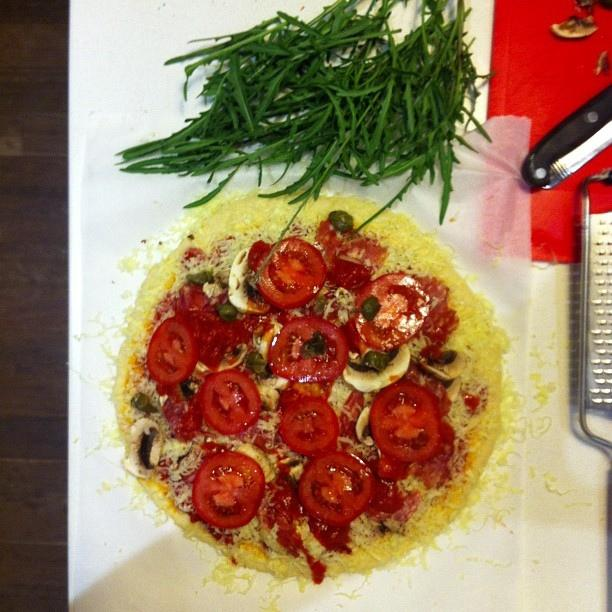mushroom: (342, 342, 412, 390), (228, 247, 270, 315), (122, 418, 162, 479), (234, 442, 276, 484), (417, 348, 467, 381), (217, 342, 247, 373), (280, 455, 312, 483), (356, 406, 375, 446), (256, 384, 280, 411), (321, 296, 344, 320)
tomato: (298, 449, 376, 528), (368, 379, 440, 462), (352, 276, 432, 350), (193, 452, 266, 528), (268, 316, 348, 382), (256, 236, 326, 310), (199, 368, 261, 436), (279, 396, 339, 460), (146, 318, 197, 384)
